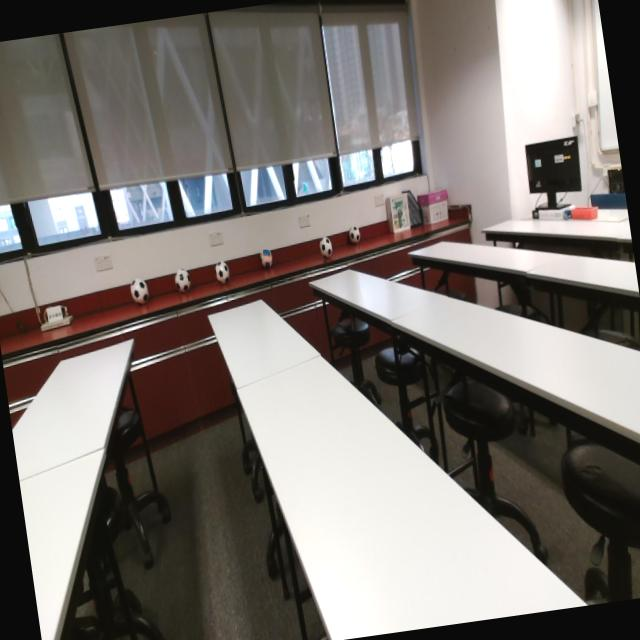Soccer Ball: (130, 278, 150, 305), (174, 270, 191, 292), (260, 246, 276, 268), (215, 262, 230, 282), (349, 225, 361, 242), (320, 240, 332, 257)
